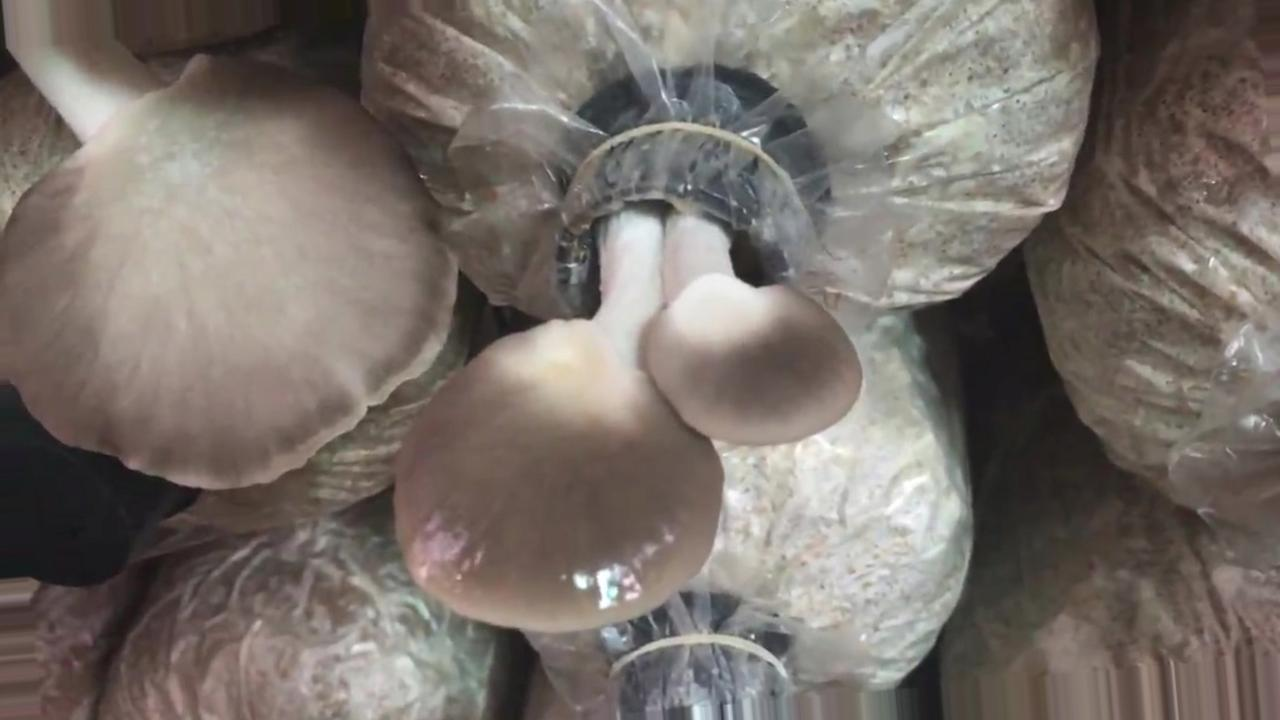nam: (395, 134, 863, 632), (1, 1, 461, 496)
